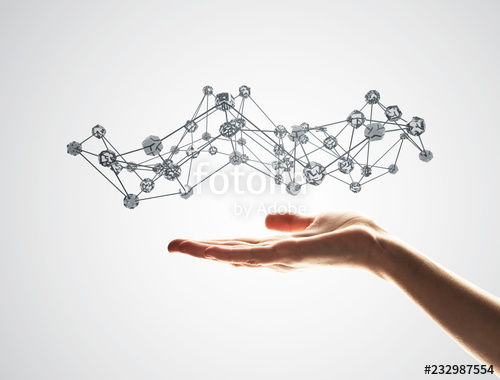finger: (178, 238, 306, 269), (204, 243, 352, 267), (168, 237, 290, 258)
